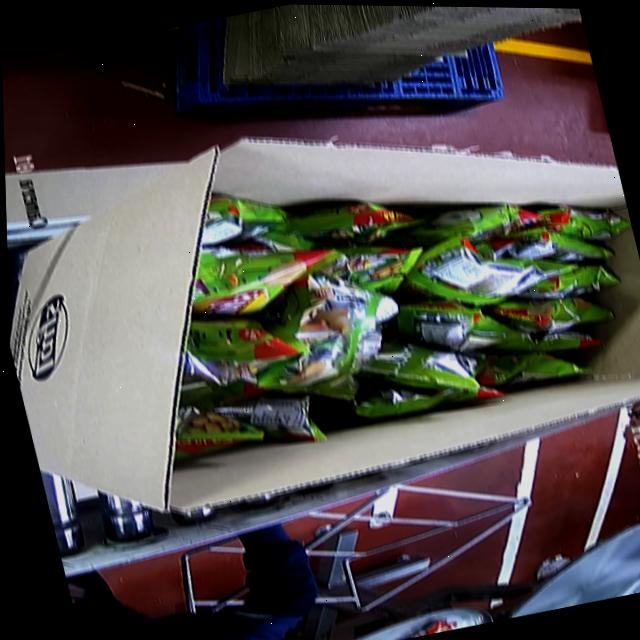YOGURT_HERB: (116, 111, 640, 474)
